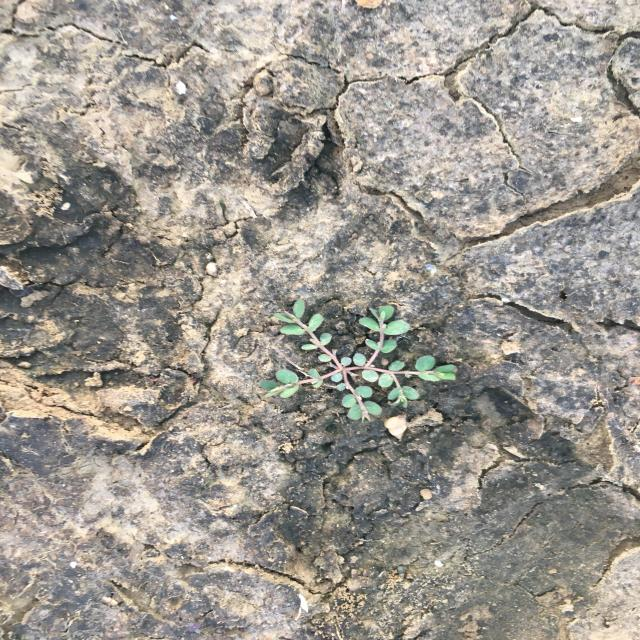SpottedSpurge: (257, 297, 459, 423)
